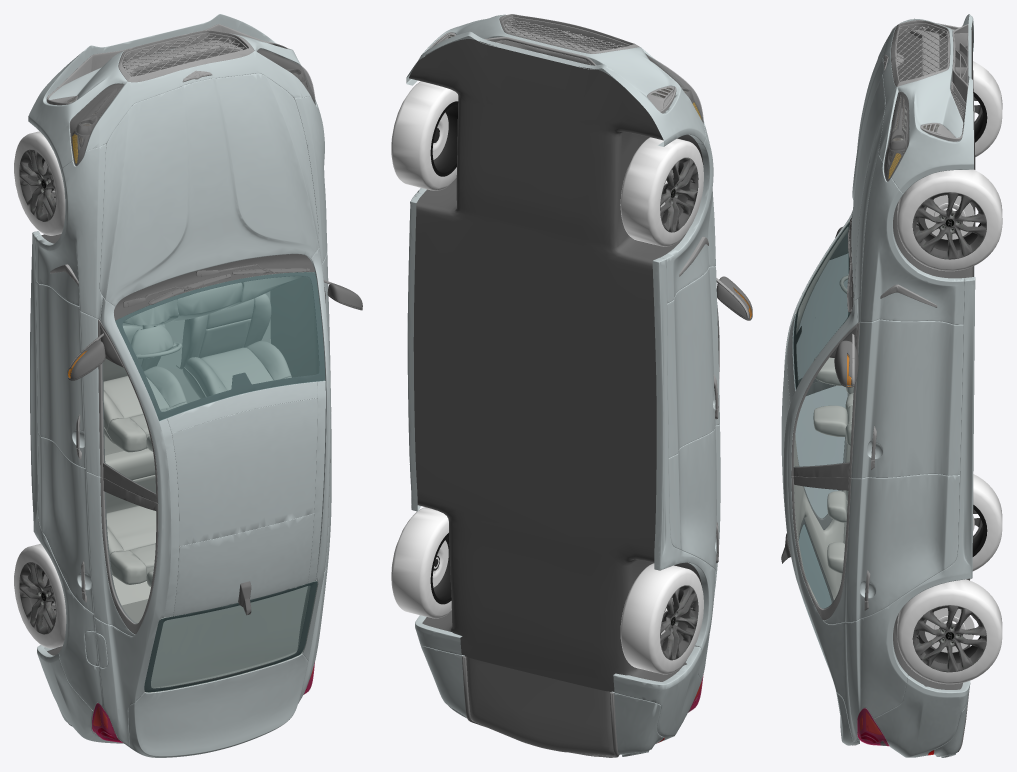
Rendered from genesis__g70.glb.
3 renders of one model, left to right at view 1: azimuth 30°, elevation 25°; view 2: azimuth 150°, elevation 25°; view 3: azimuth 270°, elevation 25°, orthographic. The views are drawn at different scales.
Visible parts, largest first — view 1: Object_9, Object_49, Object_35, Object_30, Object_48, Object_29, Object_27, Object_50, Object_52, Object_23, Object_33, Object_59 (+16 smaller); view 2: Object_4, Object_42, Object_48, Object_20, Object_28, Object_50, Object_27, Object_52, Object_44, Object_33, Object_43, Object_31 (+2 smaller); view 3: Object_48, Object_51, Object_53, Object_42, Object_27, Object_59, Object_35, Object_9, Object_28, Object_58, Object_49, Object_33 (+18 smaller).
Boxes of the visible parts, <box> form: Object_9: <box>103,272,325,692</box>; Object_49: <box>99,73,318,306</box>; Object_35: <box>115,272,325,692</box>; Object_30: <box>167,381,317,616</box>; Object_48: <box>30,96,330,746</box>; Object_29: <box>128,654,308,757</box>; Object_27: <box>28,14,317,169</box>; Object_50: <box>36,281,100,476</box>; Object_52: <box>38,433,135,635</box>; Object_23: <box>115,264,324,692</box>; Object_33: <box>46,24,288,105</box>; Object_59: <box>105,492,155,623</box>; Object_4: <box>409,39,703,691</box>; Object_42: <box>391,81,703,674</box>; Object_48: <box>407,110,719,680</box>; Object_20: <box>462,656,618,757</box>; Object_28: <box>415,615,701,756</box>; Object_50: <box>667,266,719,457</box>; Object_27: <box>406,14,705,146</box>; Object_52: <box>668,424,720,571</box>; Object_44: <box>660,157,698,660</box>; Object_33: <box>427,14,676,113</box>; Object_43: <box>430,101,690,651</box>; Object_31: <box>496,18,625,65</box>; Object_48: <box>783,56,975,741</box>; Object_51: <box>851,319,963,478</box>; Object_53: <box>823,474,959,624</box>; Object_42: <box>897,61,1002,684</box>; Object_27: <box>878,14,973,193</box>; Object_59: <box>794,386,847,608</box>; Object_35: <box>792,221,849,660</box>; Object_9: <box>793,221,857,605</box>; Object_28: <box>873,675,970,757</box>; Object_58: <box>794,358,853,466</box>; Object_49: <box>851,43,885,303</box>; Object_33: <box>883,20,968,141</box>.
Size of the model in its own units: 2.11 by 4.73 by 1.38.
31 materials, 6 textured.
